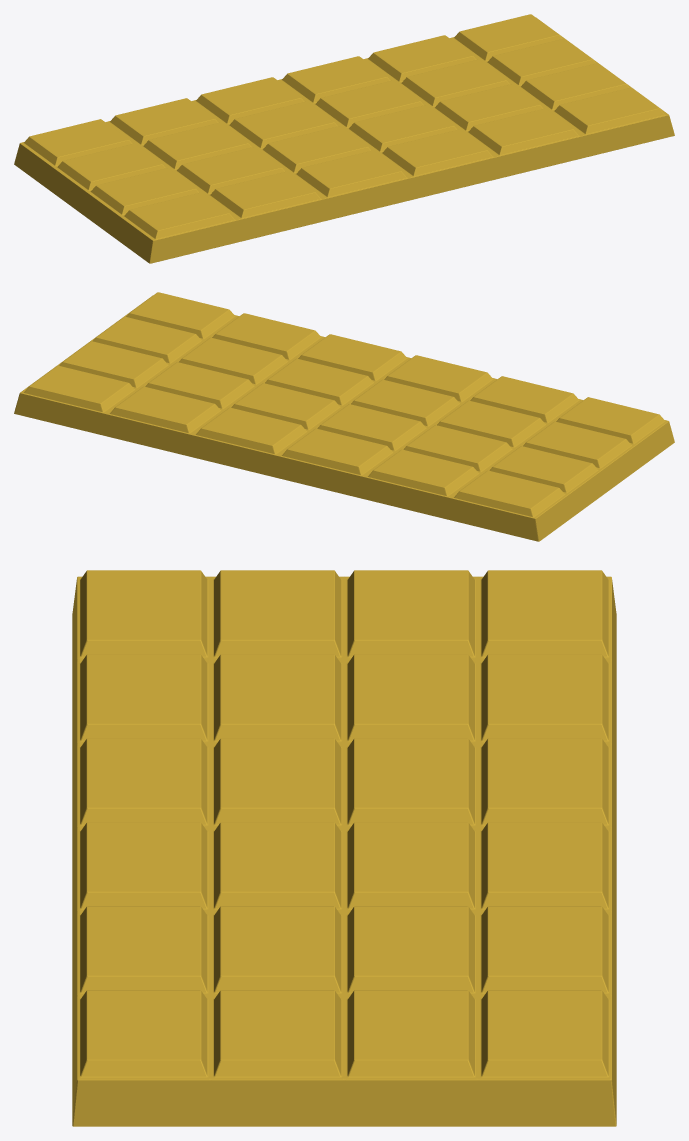
File: barra-prueba.glb
The picture shows the model from 3 angles, top to bottom: view 1: azimuth 30°, elevation 25°; view 2: azimuth 150°, elevation 25°; view 3: azimuth 270°, elevation 25°; orthographic projection. The views are drawn at different scales.
Parts seen in each view (by area): view 1: barra-simple.002; view 2: barra-simple.002; view 3: barra-simple.002.
Part boxes in pixels (bbox=[...]): barra-simple.002: bbox=[14, 14, 674, 263]; barra-simple.002: bbox=[14, 292, 674, 541]; barra-simple.002: bbox=[72, 570, 616, 1126].
Bounding box in the file's own units: 16.11 × 0.8145 × 7.23.
